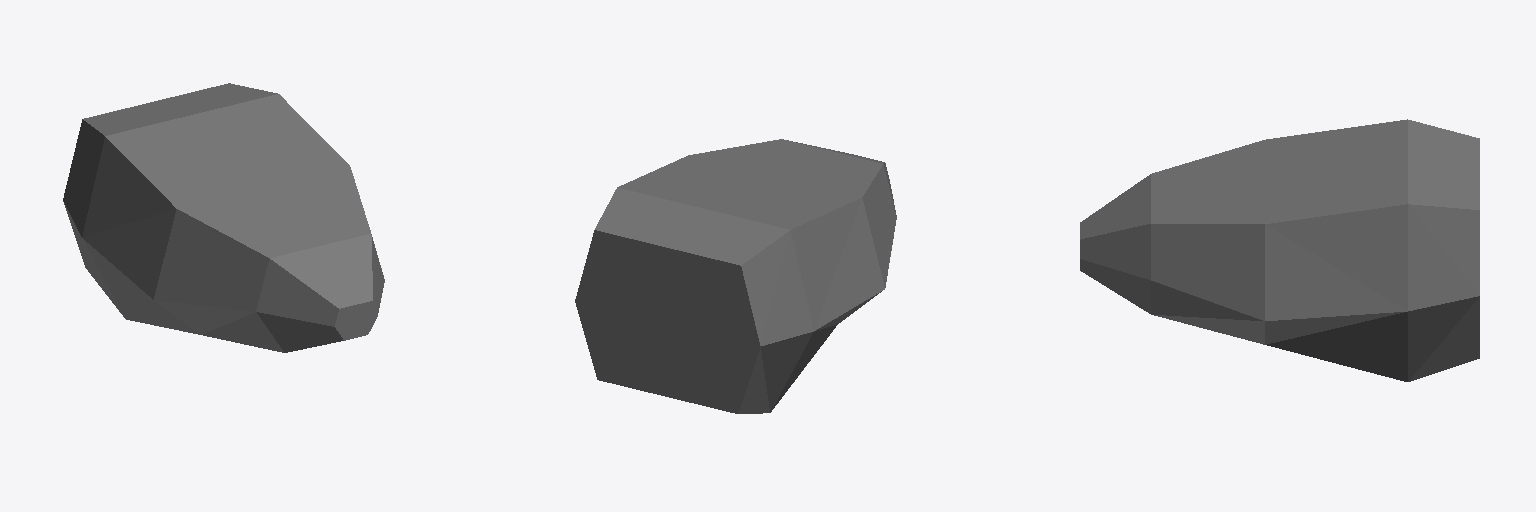
Rendered from body.obj.
The picture shows the model from 3 angles: view 1: azimuth 30°, elevation 25°; view 2: azimuth 150°, elevation 25°; view 3: azimuth 270°, elevation 25°; orthographic projection.
Parts seen in each view (by area): view 1: Main_Body; view 2: Main_Body; view 3: Main_Body.
Boxes of the visible parts, <box> form: Main_Body: <box>63,83,384,352</box>; Main_Body: <box>575,139,896,413</box>; Main_Body: <box>1080,119,1479,381</box>.
Size of the model in its own units: 0.0304 by 0.0249 by 0.048.